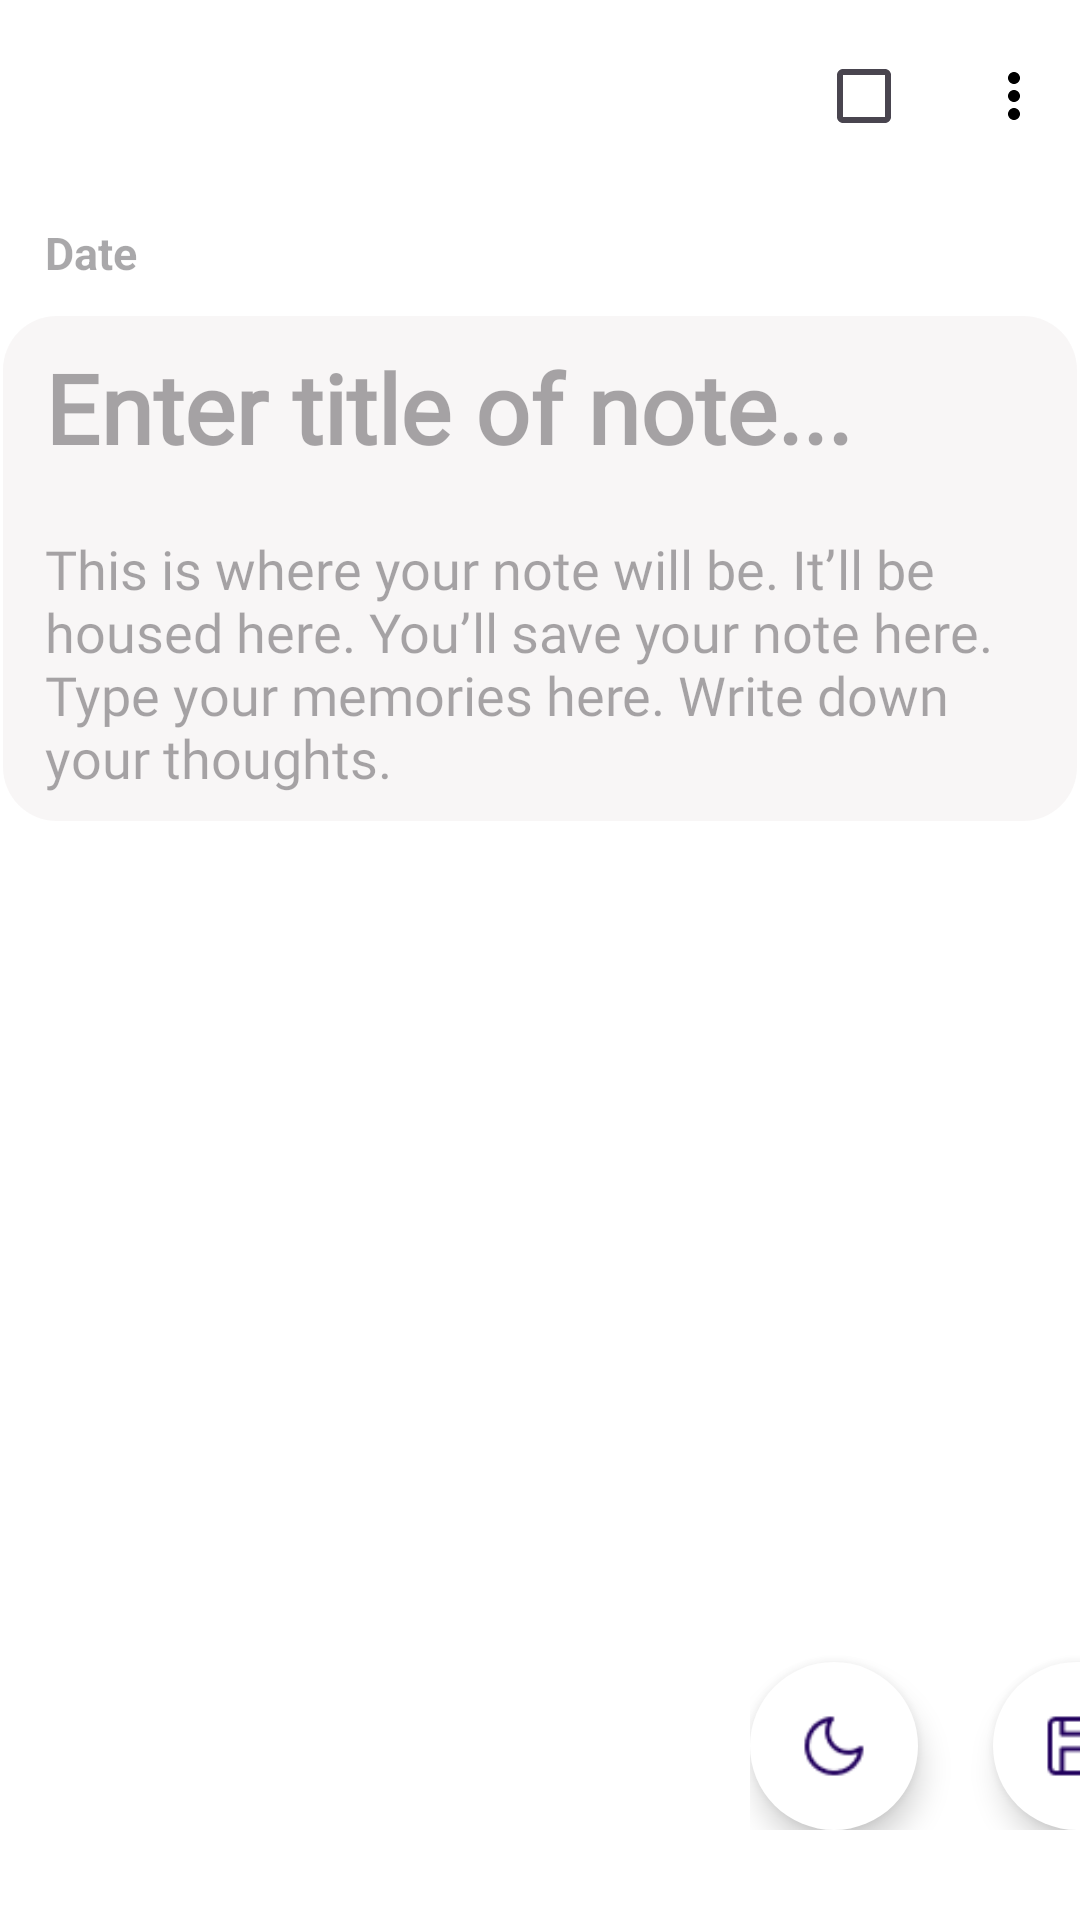

Screen size 1080x1920. Icon name, then its box in pixels as (x1, y1, x2, y2):
moon: (753, 1716, 918, 1830)
